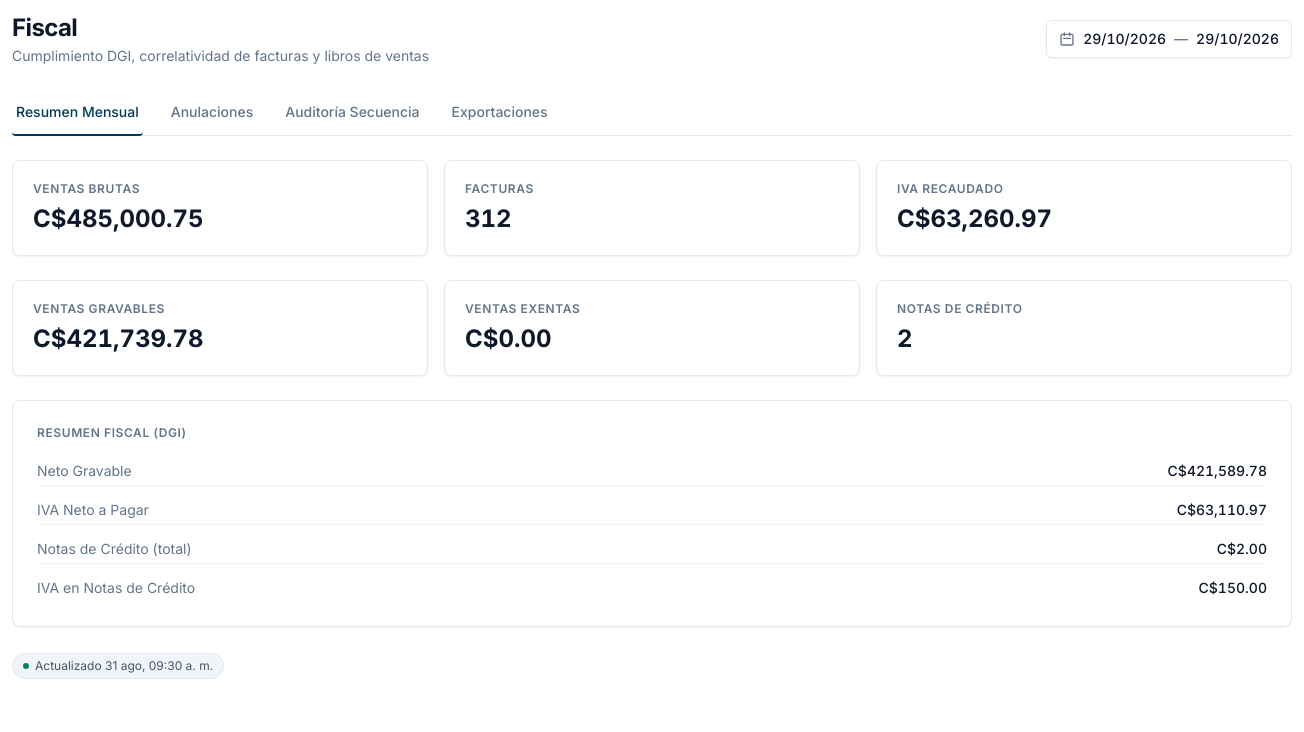
Test case: W4 — FiscalPage › switches to voided invoices tab
This screenshot has width=1304, height=732.
Click the button "Anulaciones".
click(212, 113)  # box left=167, top=90, right=257, bottom=136
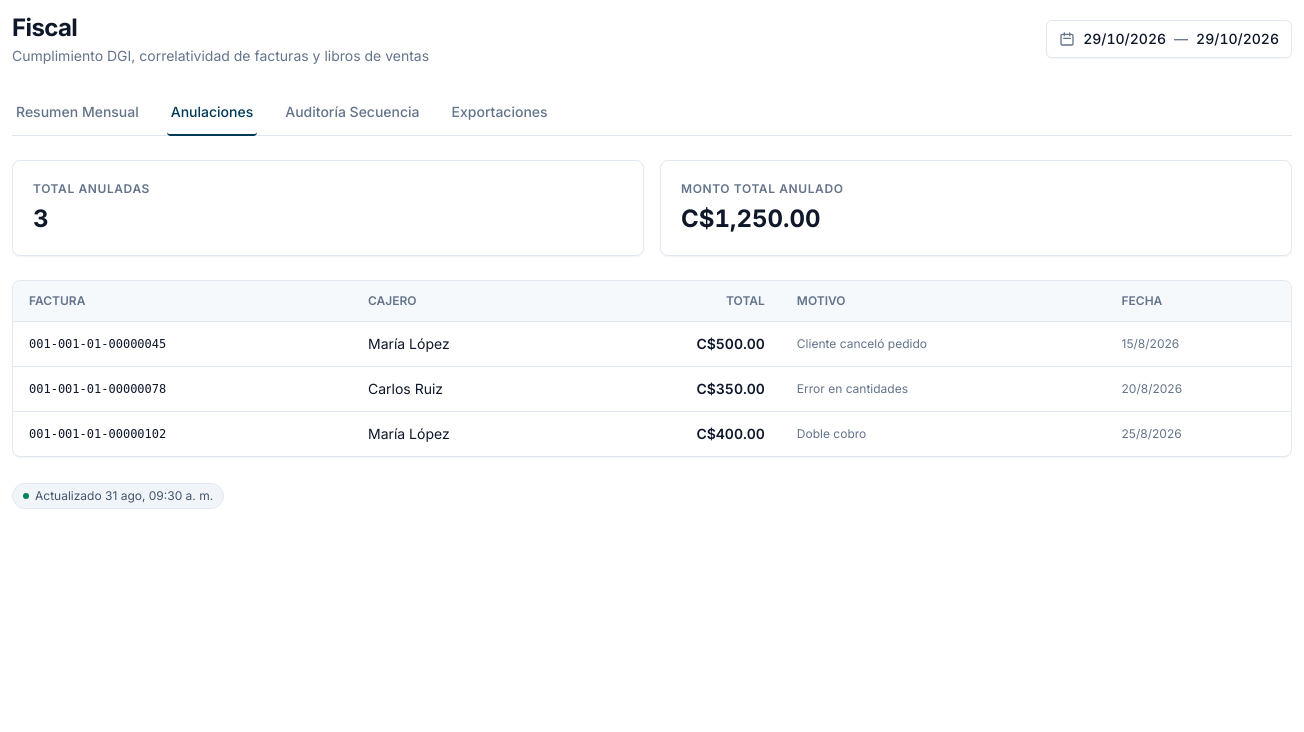
Expected: the text "Total Anuladas" is shown, left=33, top=181, right=150, bottom=196
Expected: the text "Monto Total Anulado" is shown, left=681, top=181, right=844, bottom=196
